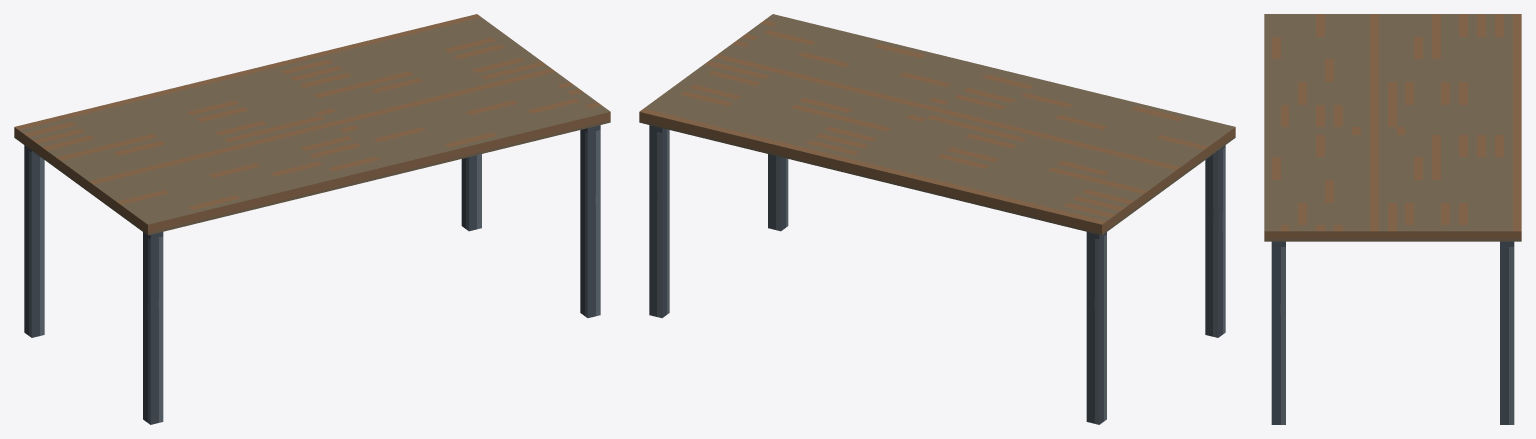
The model's file is table.glb.
3 renders of one model, left to right at view 1: azimuth 30°, elevation 25°; view 2: azimuth 150°, elevation 25°; view 3: azimuth 270°, elevation 25°, orthographic. The views are drawn at different scales.
Parts seen in each view (by area): view 1: table mesh; view 2: table mesh; view 3: table mesh.
Part boxes in pixels (box(x1,y1,x2,y2)): table mesh: box(14, 14, 610, 424); table mesh: box(639, 14, 1235, 424); table mesh: box(1264, 14, 1521, 424).
Bounding box in the file's own units: 1.8 × 0.76 × 0.9.
Materials: 2 (2 with a texture image).
